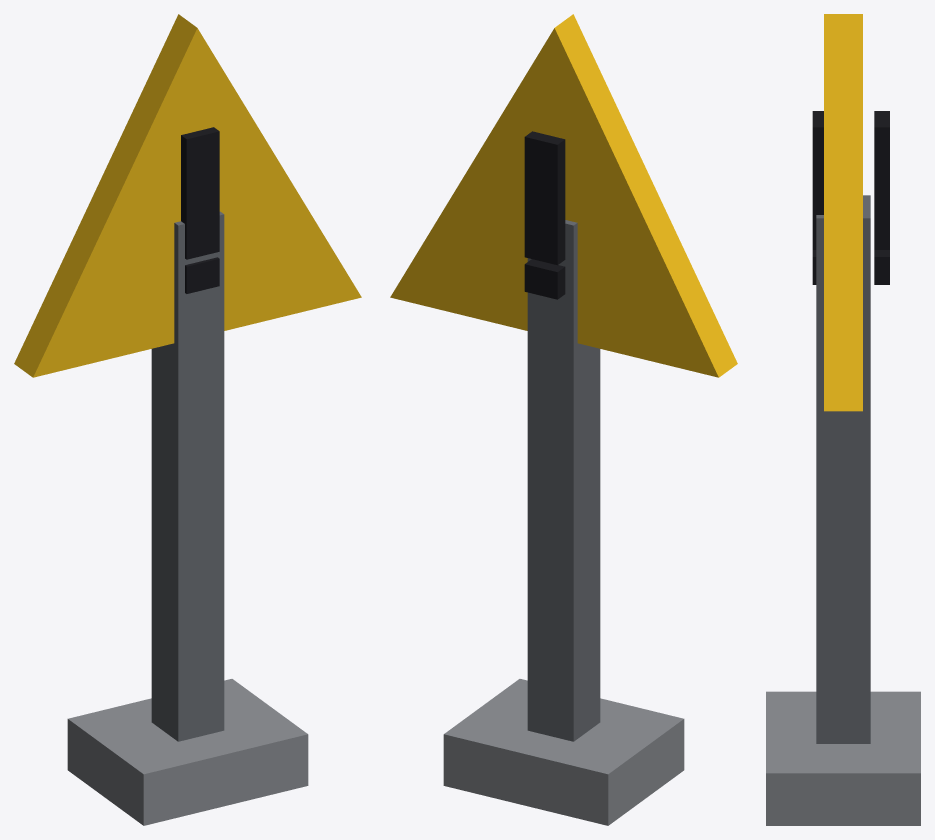
Rendered from env_r11_hazard_sign.glb.
3 views of the same model, side by side, from view 1: azimuth 30°, elevation 25°; view 2: azimuth 150°, elevation 25°; view 3: azimuth 270°, elevation 25° (orthographic).
Parts seen in each view (by area): view 1: env_r11_hazard_sign; view 2: env_r11_hazard_sign; view 3: env_r11_hazard_sign.
Boxes of the visible parts, box(x1,y1,x2,y2) form: env_r11_hazard_sign: box(14, 14, 361, 825); env_r11_hazard_sign: box(390, 14, 737, 825); env_r11_hazard_sign: box(766, 14, 920, 825).
Size of the model in its own units: 1 by 2.2 by 0.4.
Materials: 1 (1 with a texture image).
